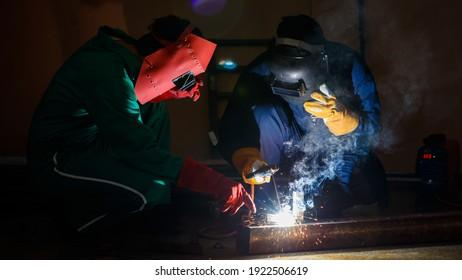gloves: (177, 157, 256, 217), (302, 83, 360, 136), (231, 147, 272, 185)
